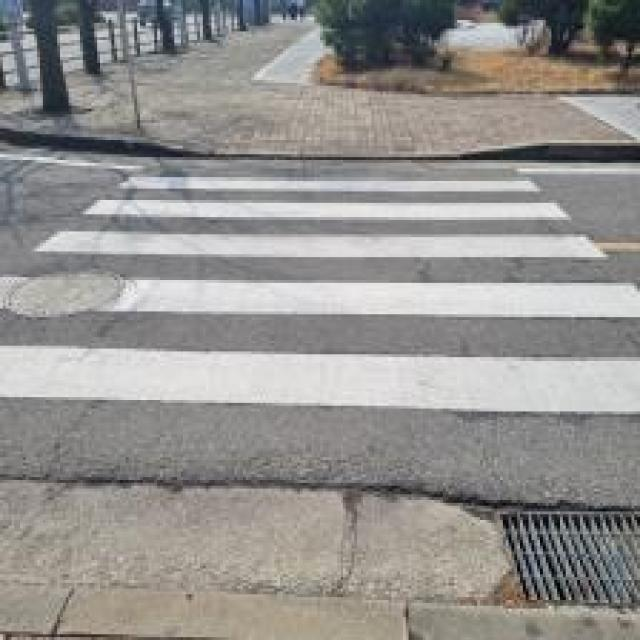obstacle: (0, 149, 640, 436)
